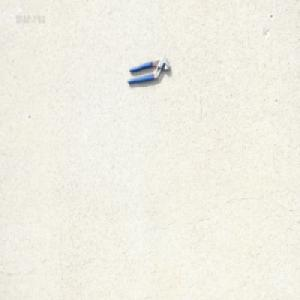Pliers: (127, 56, 170, 86)
